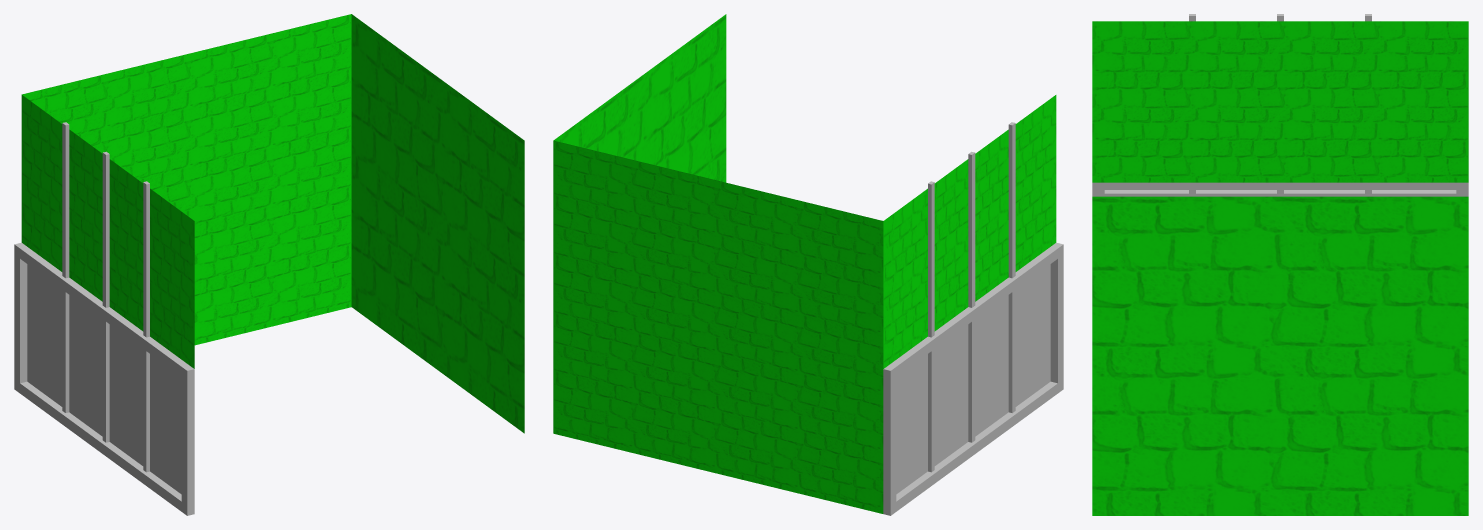
The picture shows the model from 3 angles, left to right: view 1: azimuth 30°, elevation 25°; view 2: azimuth 150°, elevation 25°; view 3: azimuth 270°, elevation 25°; orthographic projection. The views are drawn at different scales.
Parts seen in each view (by area): view 1: 별관_왼쪽 몸통, 별관_왼쪽 몸통_window, 별관_왼쪽 몸통_철, 별관_왼쪽 몸통_window_lorn; view 2: 별관_왼쪽 몸통, 별관_왼쪽 몸통_window, 별관_왼쪽 몸통_철, 별관_왼쪽 몸통_window_lorn; view 3: 별관_왼쪽 몸통, 별관_왼쪽 몸통_철, 별관_왼쪽 몸통_window, 별관_왼쪽 몸통_window_lorn.
Part boxes in pixels (x1,y1,x2,y2): 별관_왼쪽 몸통: [21, 14, 524, 433]; 별관_왼쪽 몸통_window: [27, 264, 181, 494]; 별관_왼쪽 몸통_철: [14, 242, 194, 515]; 별관_왼쪽 몸통_window_lorn: [62, 122, 149, 472]; 별관_왼쪽 몸통: [553, 14, 1056, 513]; 별관_왼쪽 몸통_window: [896, 264, 1050, 494]; 별관_왼쪽 몸통_철: [883, 242, 1063, 515]; 별관_왼쪽 몸통_window_lorn: [928, 122, 1015, 472]; 별관_왼쪽 몸통: [1092, 21, 1468, 515]; 별관_왼쪽 몸통_철: [1092, 182, 1468, 196]; 별관_왼쪽 몸통_window: [1104, 193, 1456, 196]; 별관_왼쪽 몸통_window_lorn: [1189, 14, 1371, 196].
Bounding box in the file's own units: 341 × 288 × 303.
